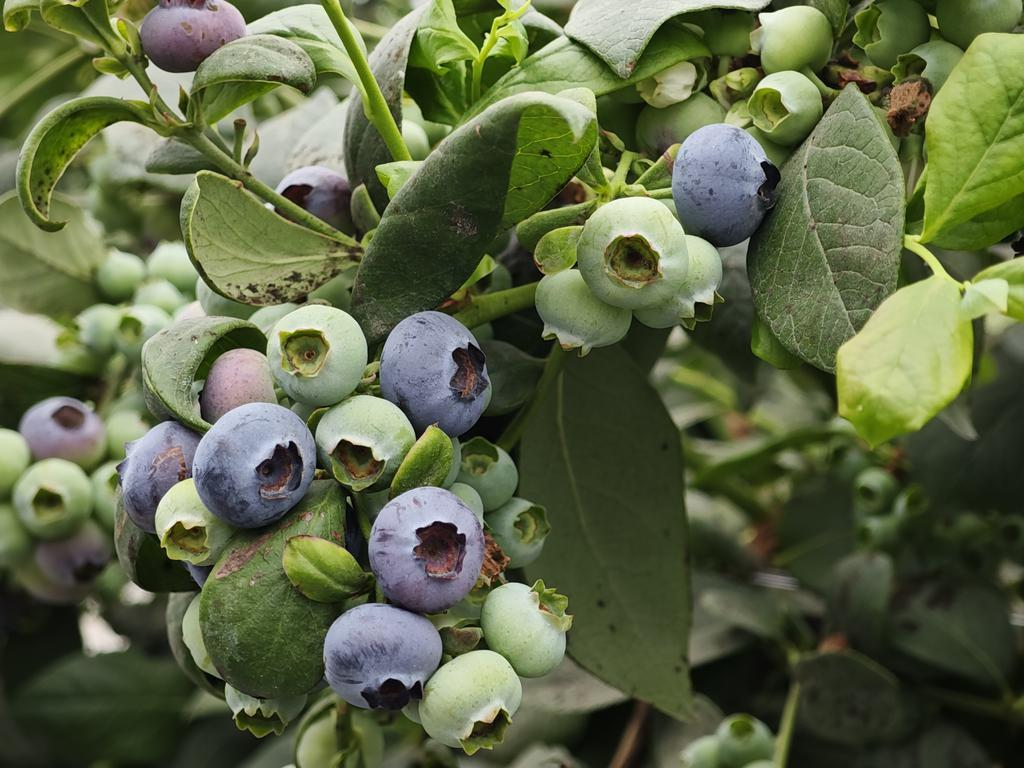RipeBlueBerry: (191, 400, 320, 531), (364, 485, 489, 616), (376, 308, 493, 437), (318, 603, 442, 713), (672, 122, 780, 248)
Semi-RipeBlueBerry: (135, 0, 249, 72)
UnripeBlueBerry: (577, 193, 692, 310), (262, 301, 372, 407), (416, 650, 526, 752), (312, 393, 420, 491), (479, 579, 574, 678)
